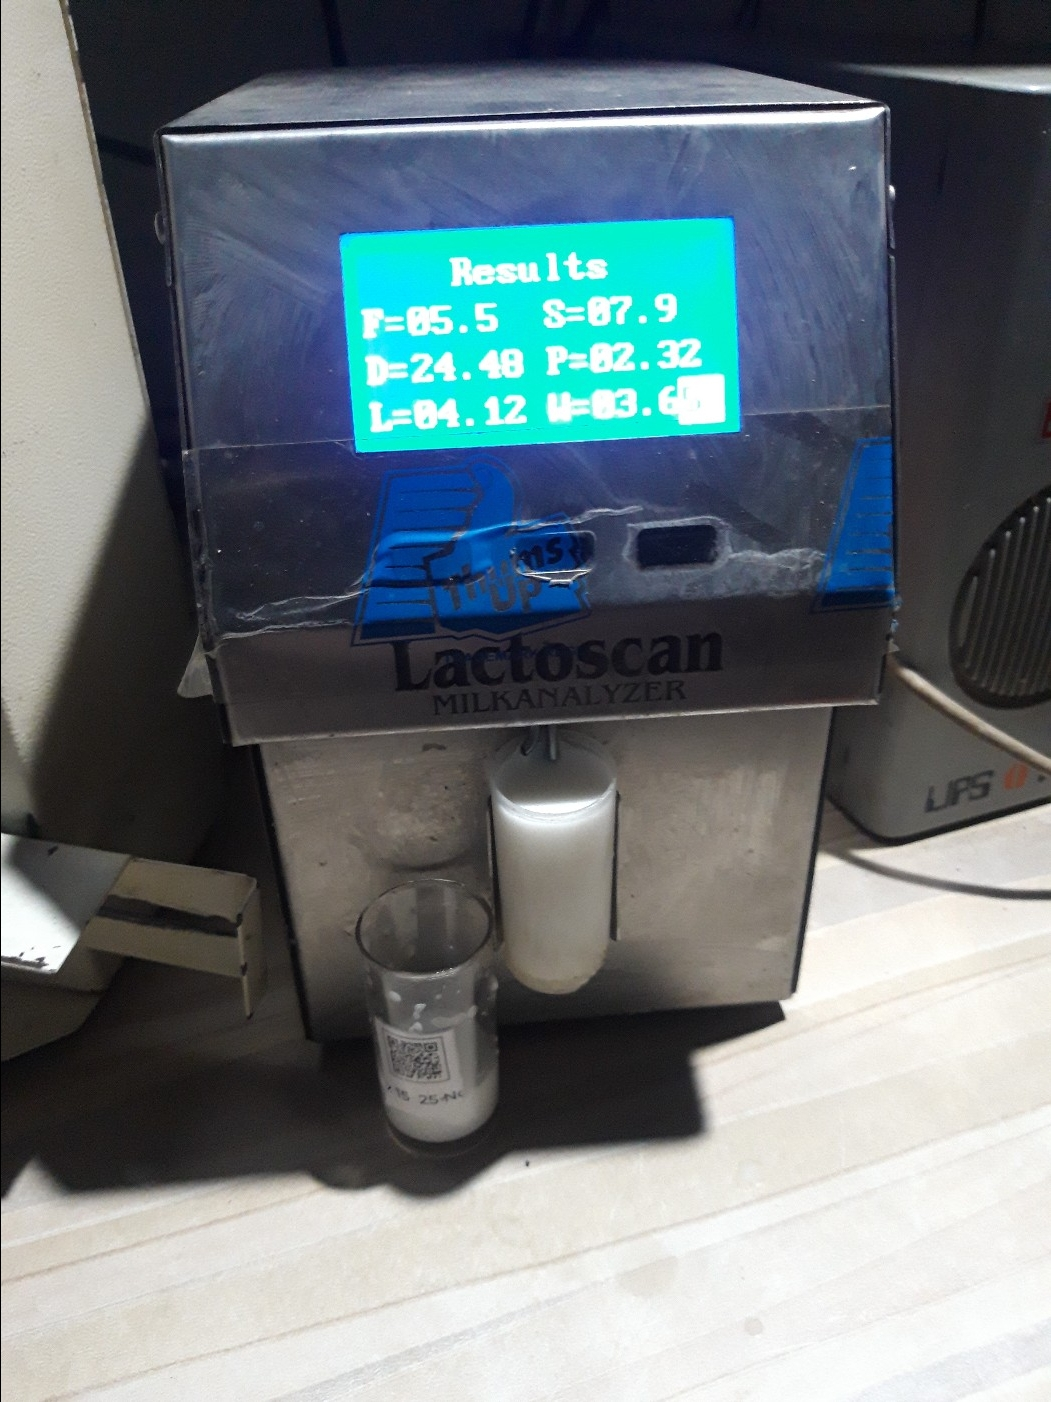lcd: (331, 217, 771, 458)
qr: (343, 1015, 490, 1094)
